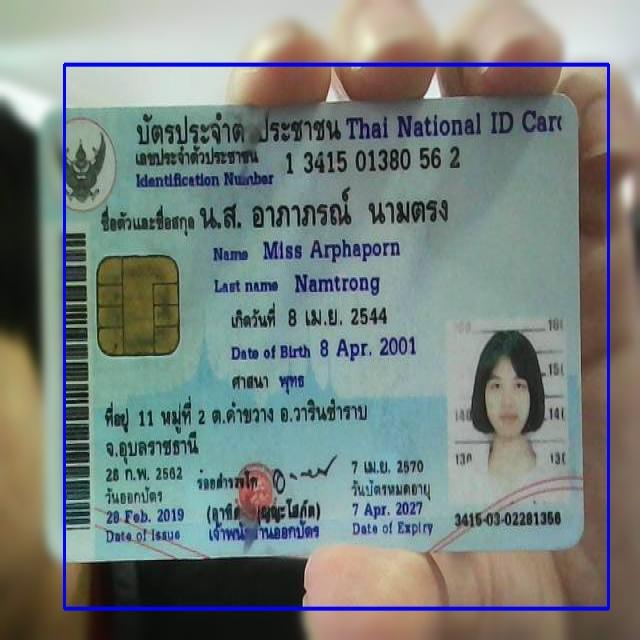Address_th: (100, 391, 376, 470)
Date_of_Birth: (317, 332, 419, 365)
Date_of_Expiry: (347, 499, 432, 520)
Date_of_Issue: (102, 505, 190, 528)
First_Name: (259, 232, 401, 265)
ID_Number: (281, 145, 466, 176)
Image: (449, 316, 573, 507)
Last_Name: (291, 267, 383, 299)
Thai_Name: (194, 184, 450, 235)
